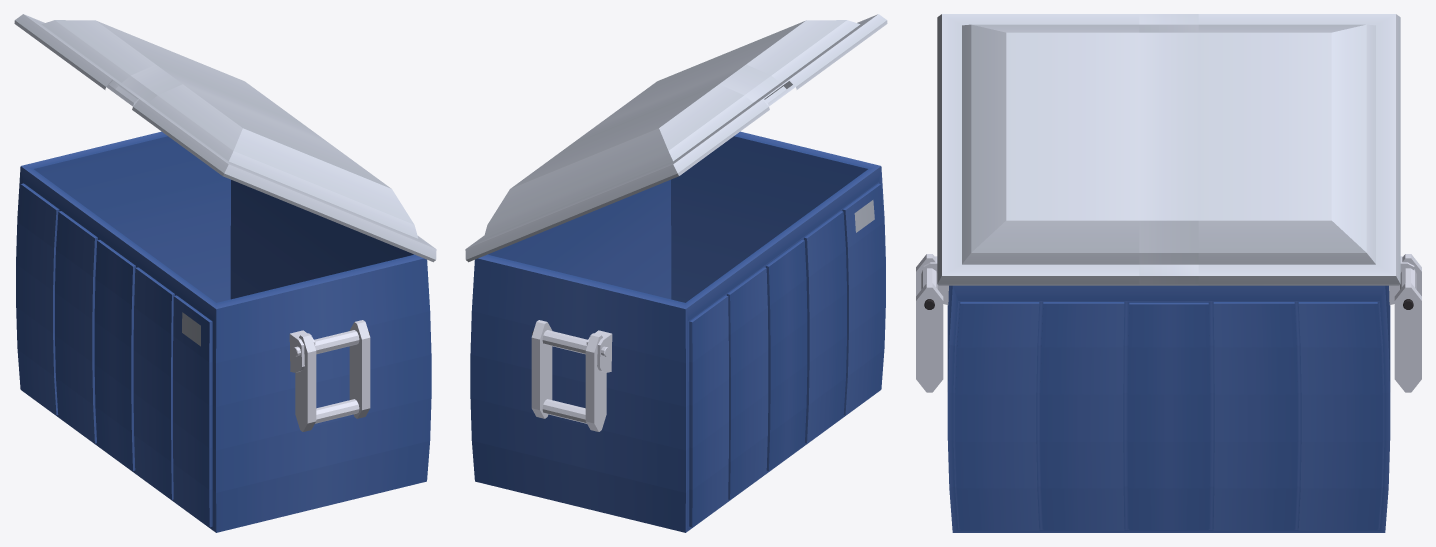
The model's file is cooler.glb.
3 views of the same model, side by side, from view 1: azimuth 30°, elevation 25°; view 2: azimuth 150°, elevation 25°; view 3: azimuth 270°, elevation 25° (orthographic). The views are drawn at different scales.
Parts seen in each view (by area): view 1: Cube; view 2: Cube; view 3: Cube.
Part boxes in pixels (<box>): Cube: <box>14,14,436,532</box>; Cube: <box>465,14,887,532</box>; Cube: <box>916,14,1421,532</box>.
Bounding box in the file's own units: 2.27 × 3.66 × 4.05.
Materials: 1 (1 with a texture image).
